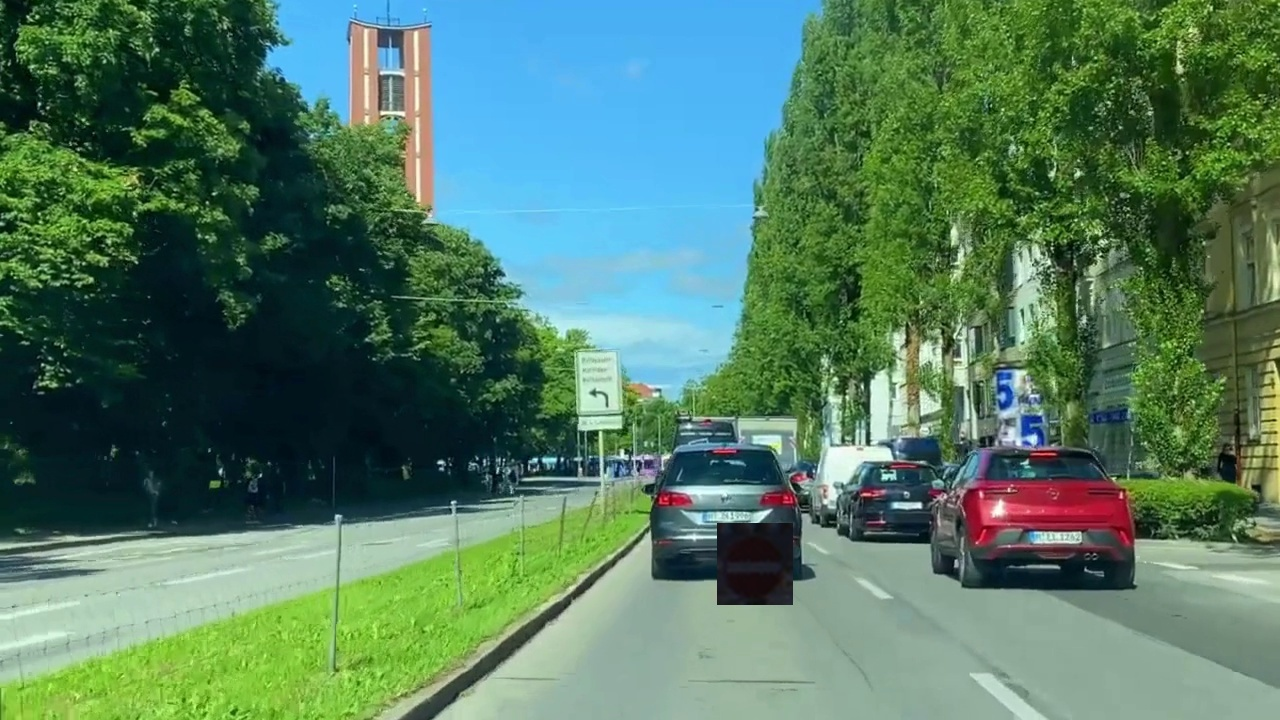No entry: (717, 523, 793, 605)
